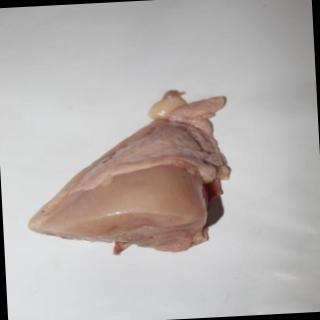Ayam: (24, 88, 237, 260)
